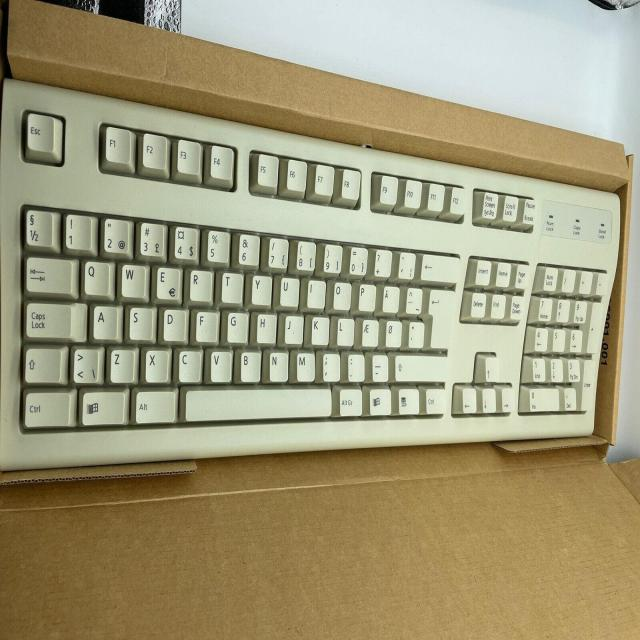keyboard: (0, 80, 621, 476)
